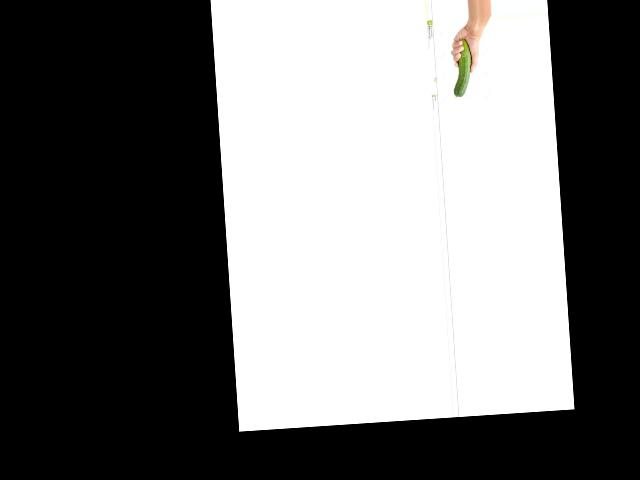cucumber: (449, 39, 472, 97)
